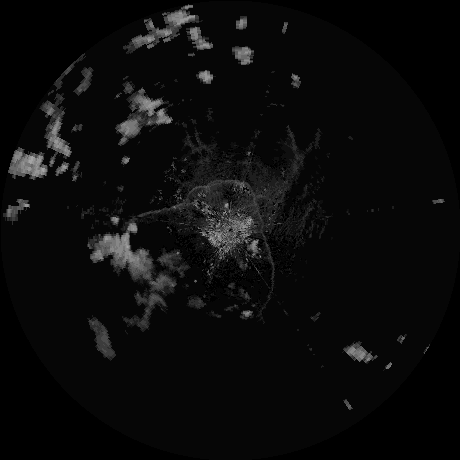frontgust: (262, 233, 277, 319), (249, 185, 262, 222)
